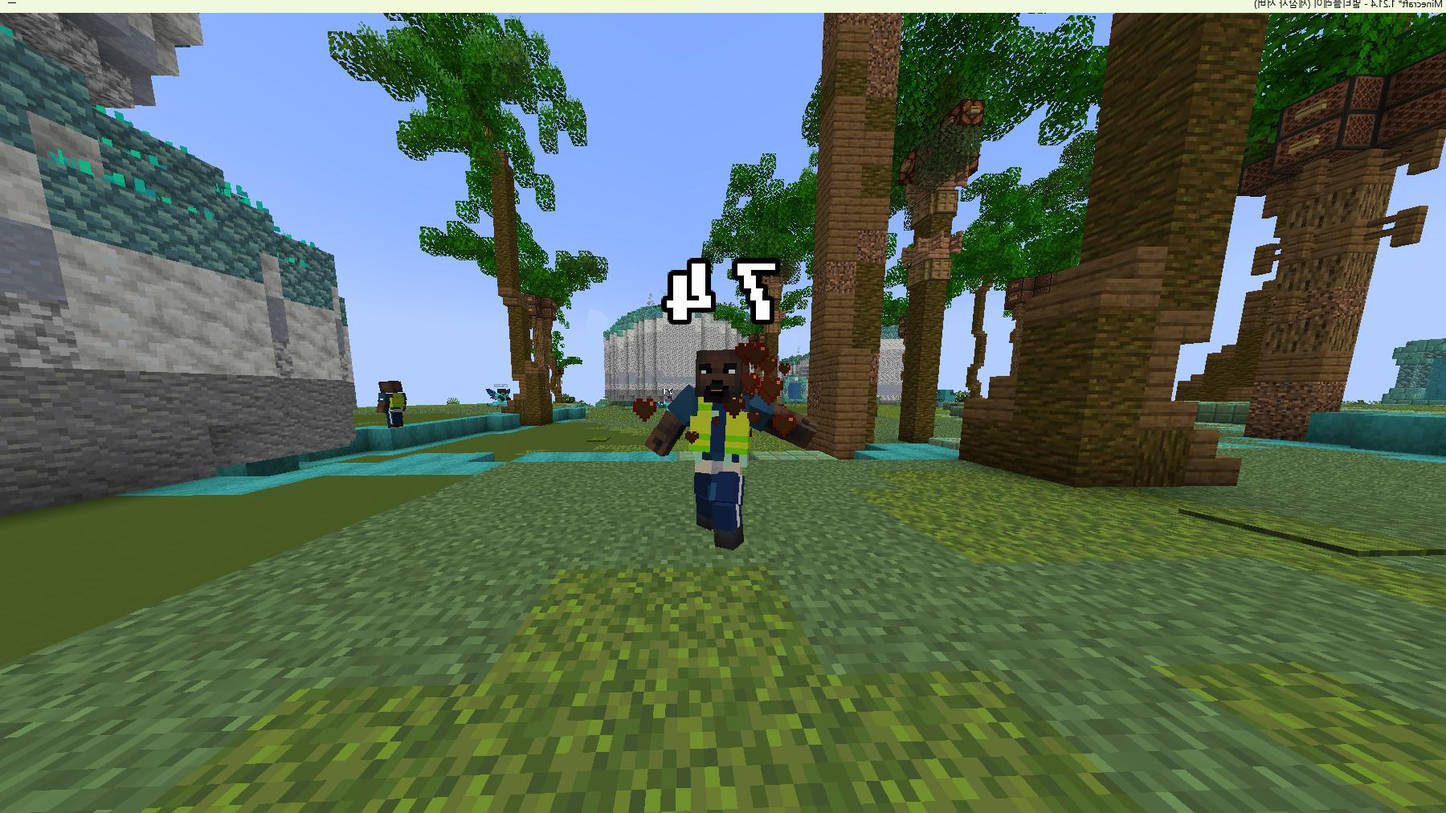Guardian: (647, 341, 816, 549), (377, 381, 406, 427)
